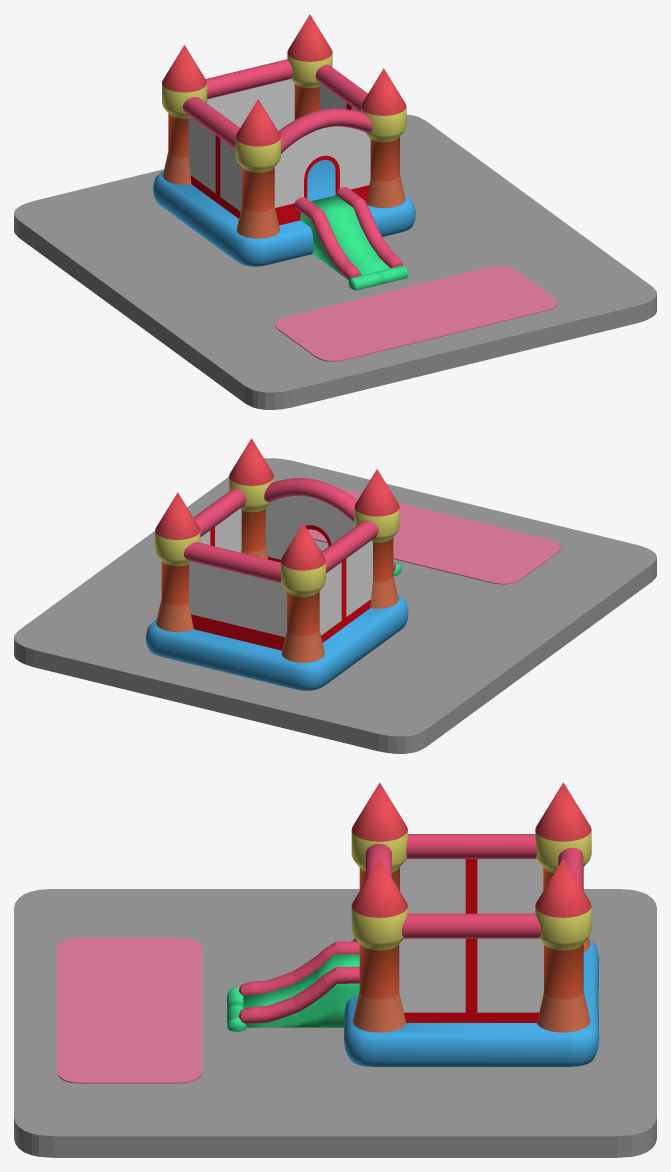
3 views of the same model, one above another, from view 1: azimuth 30°, elevation 25°; view 2: azimuth 150°, elevation 25°; view 3: azimuth 270°, elevation 25° (orthographic). The views are drawn at different scales.
Parts seen in each view (by area): view 1: ground.001, BASE.001, WALLS AND LINES, ground.004, GRID; view 2: ground.001, BASE.001, WALLS AND LINES, ground.004, GRID; view 3: ground.001, BASE.001, WALLS AND LINES, ground.004.
Boxes of the visible parts, left/top/right/bottom form: ground.001: left=14, top=114, right=656, bottom=409; BASE.001: left=153, top=14, right=415, bottom=290; WALLS AND LINES: left=183, top=59, right=403, bottom=279; ground.004: left=275, top=266, right=557, bottom=361; GRID: left=274, top=126, right=370, bottom=207; ground.001: left=14, top=458, right=656, bottom=753; BASE.001: left=145, top=438, right=408, bottom=690; WALLS AND LINES: left=184, top=478, right=395, bottom=650; ground.004: left=308, top=489, right=561, bottom=584; GRID: left=265, top=496, right=354, bottom=559; ground.001: left=14, top=889, right=656, bottom=1157; BASE.001: left=227, top=782, right=599, bottom=1066; WALLS AND LINES: left=239, top=834, right=583, bottom=1023; ground.004: left=57, top=937, right=202, bottom=1083.
Size of the model in its own units: 19.18 by 7.81 by 21.08.
